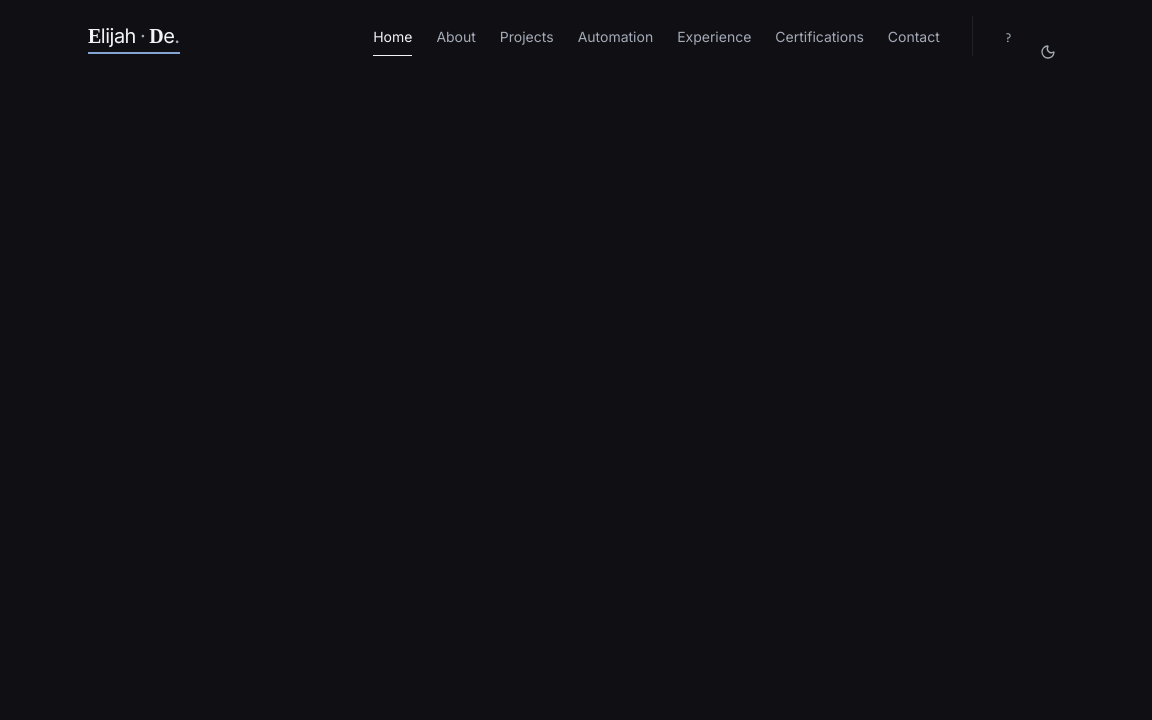
Test: public-page accessibility › keeps shortcut help synchronized with implemented keys
The width and height of the screenshot is (1152, 720).
Click the button named "Keyboard shortcuts" at (1008, 36), box [997,16,1020,56]
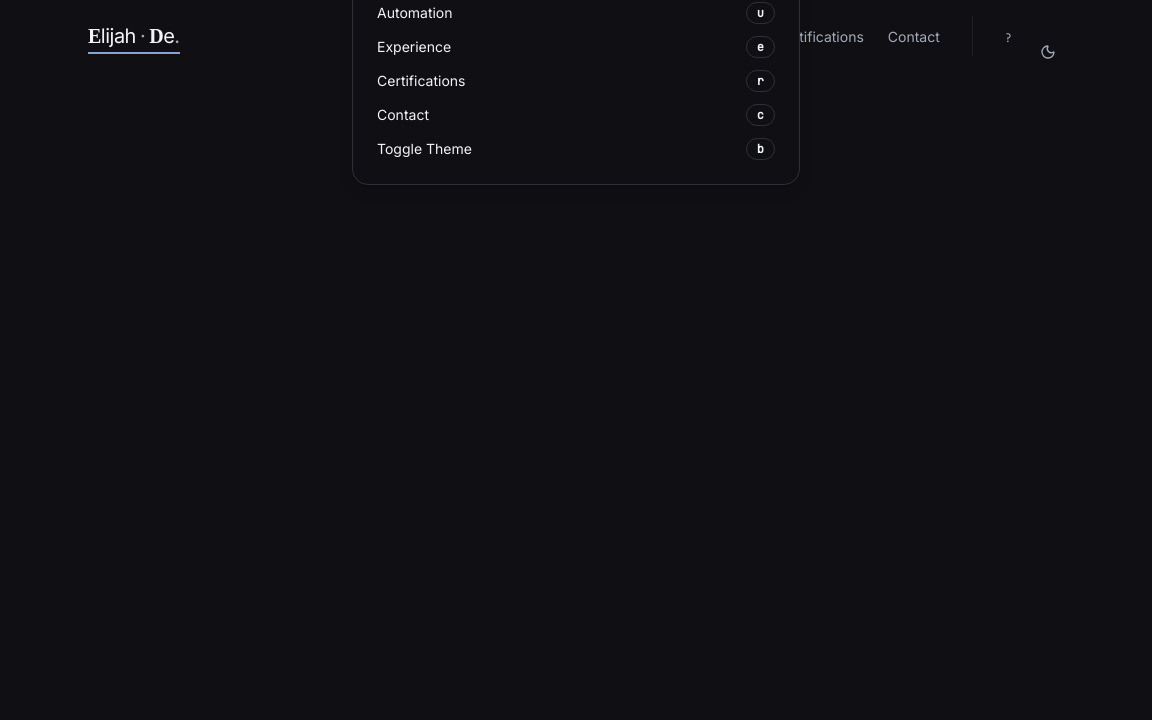
Expected: the text "Certifications" below "Press" is shown, [377,72,466,89]
Expected: the text "r" is shown, [746,70,775,92]
Expected: the text "Toggle Theme" is shown, [377,139,472,159]
